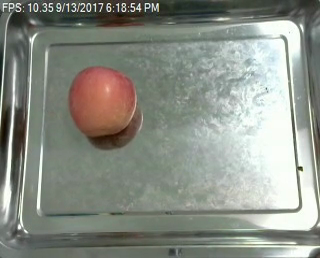Apple: (65, 63, 140, 142)
